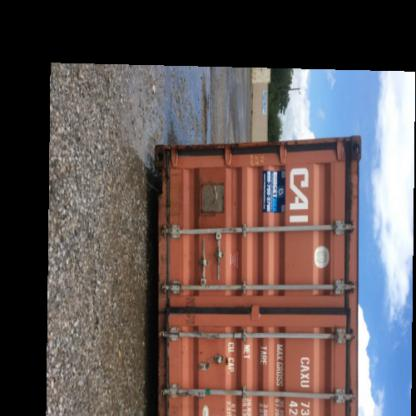Damage: (155, 168, 177, 272), (158, 291, 208, 325), (158, 336, 173, 408)
